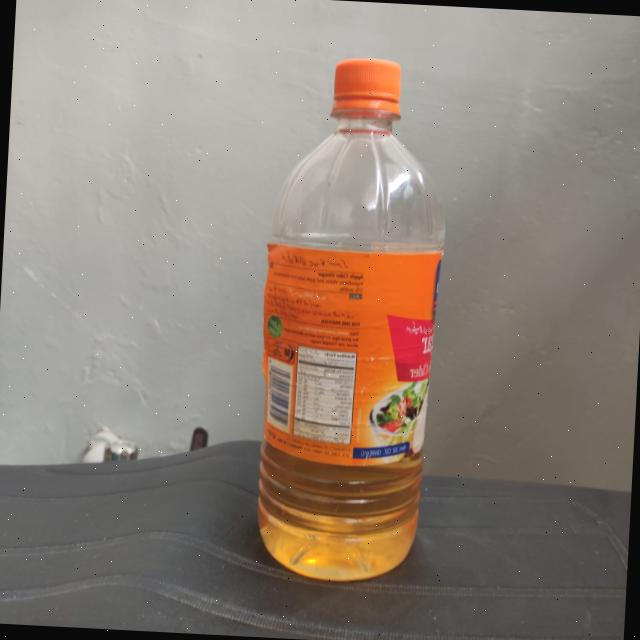bottle: (240, 52, 462, 592)
cap: (324, 61, 405, 128)
label: (252, 246, 443, 480)
